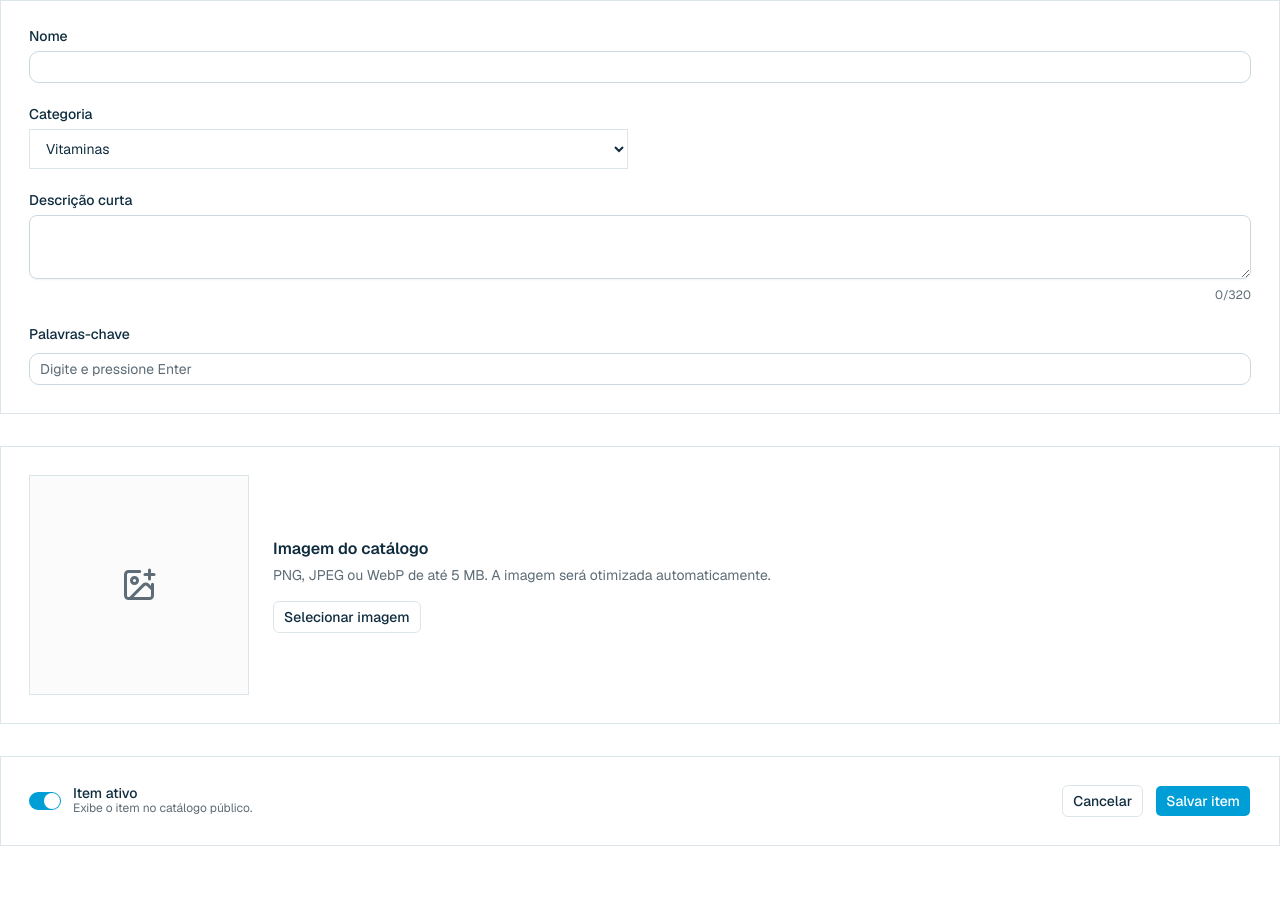
Test: CatalogForm › turns entered keywords into removable chips
Type "antioxidante" into the field labelled "Palavras-chave". click: (640, 369)
box: [29,353,1251,385]
Then press Enter
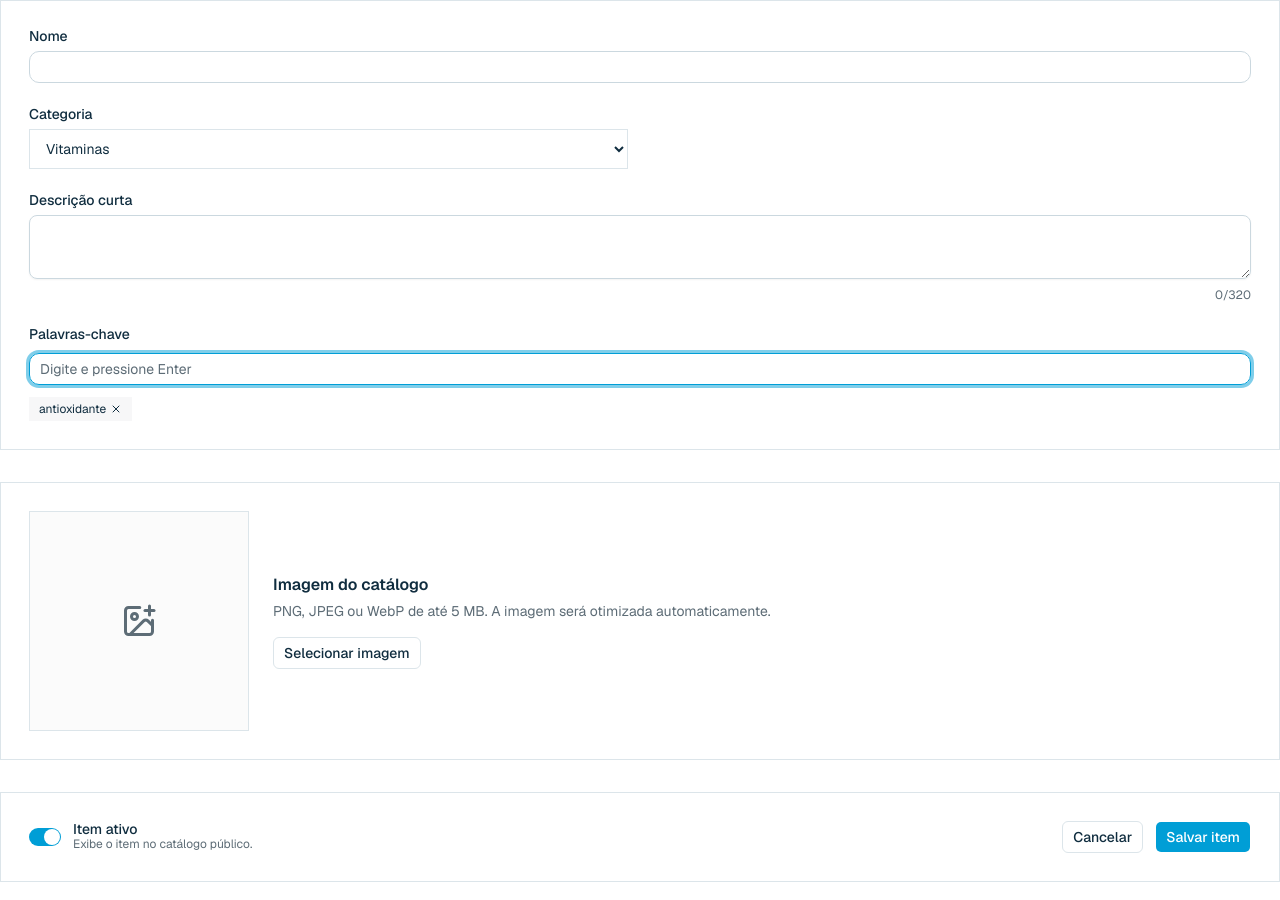
expect the text "antioxidante" is shown: met, box [29,397,132,421]
Click the button named "Remover antioxidante". click: (116, 409)
box: [110,403,122,415]
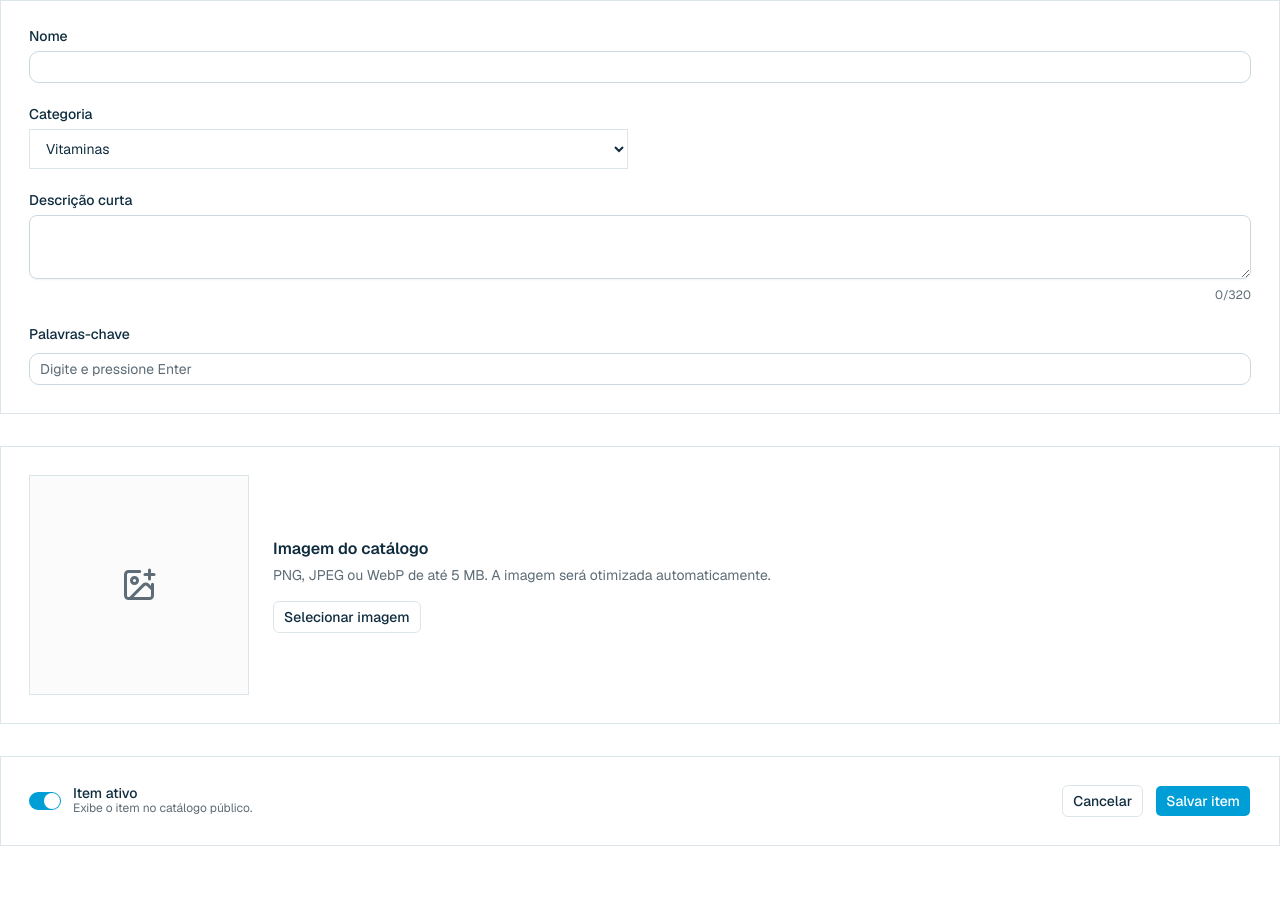
expect the text "antioxidante" is gone: met
